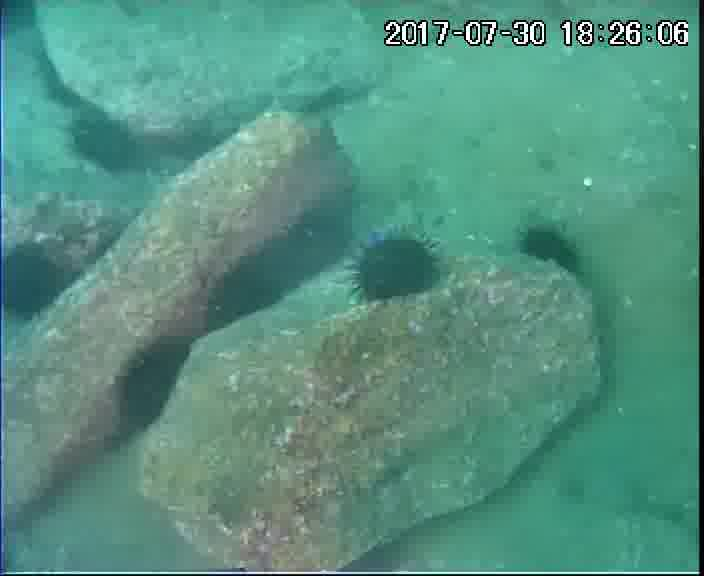echinus: (116, 341, 196, 429), (354, 238, 439, 305), (2, 245, 73, 322), (211, 262, 283, 336), (68, 111, 145, 177), (287, 209, 350, 272), (521, 220, 583, 275)
